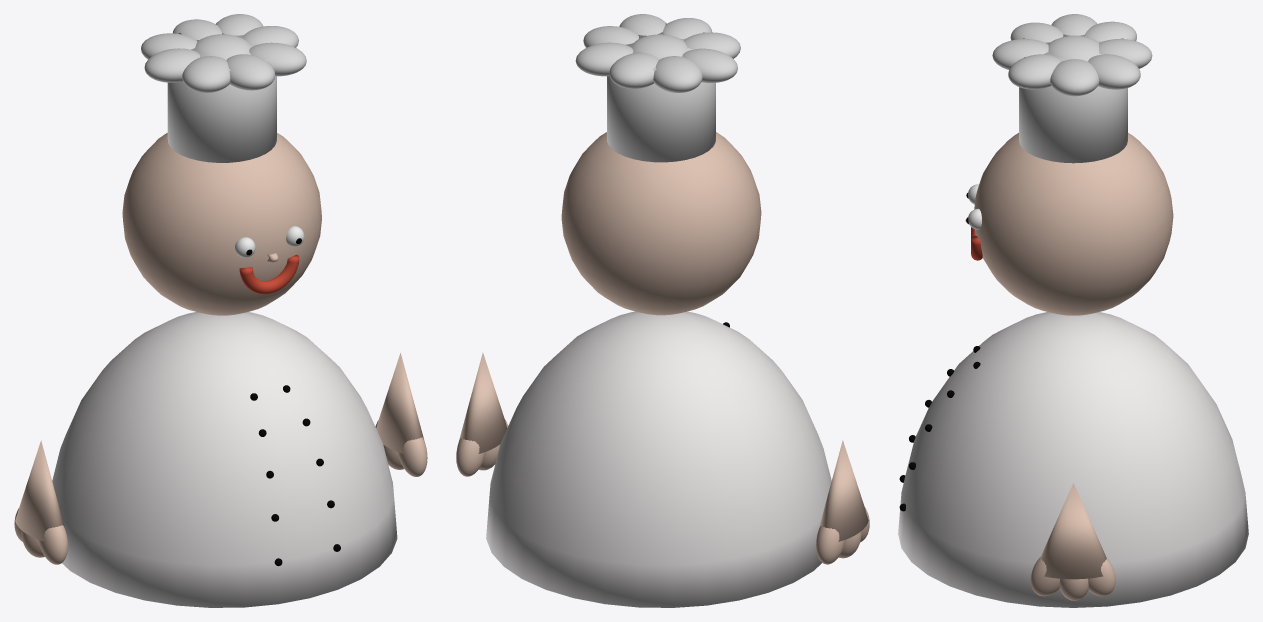
The model's file is chef.fbx.
The picture shows the model from 3 angles, left to right: view 1: azimuth 30°, elevation 25°; view 2: azimuth 150°, elevation 25°; view 3: azimuth 270°, elevation 25°; orthographic projection.
Parts seen in each view (by area): view 1: Sphere; view 2: Sphere; view 3: Sphere.
Part boxes in pixels (x1,y1,x2,y2): Sphere: (14, 14, 427, 607); Sphere: (456, 14, 869, 607); Sphere: (898, 14, 1248, 607).
Bounding box in the file's own units: 233 × 279 × 180.
